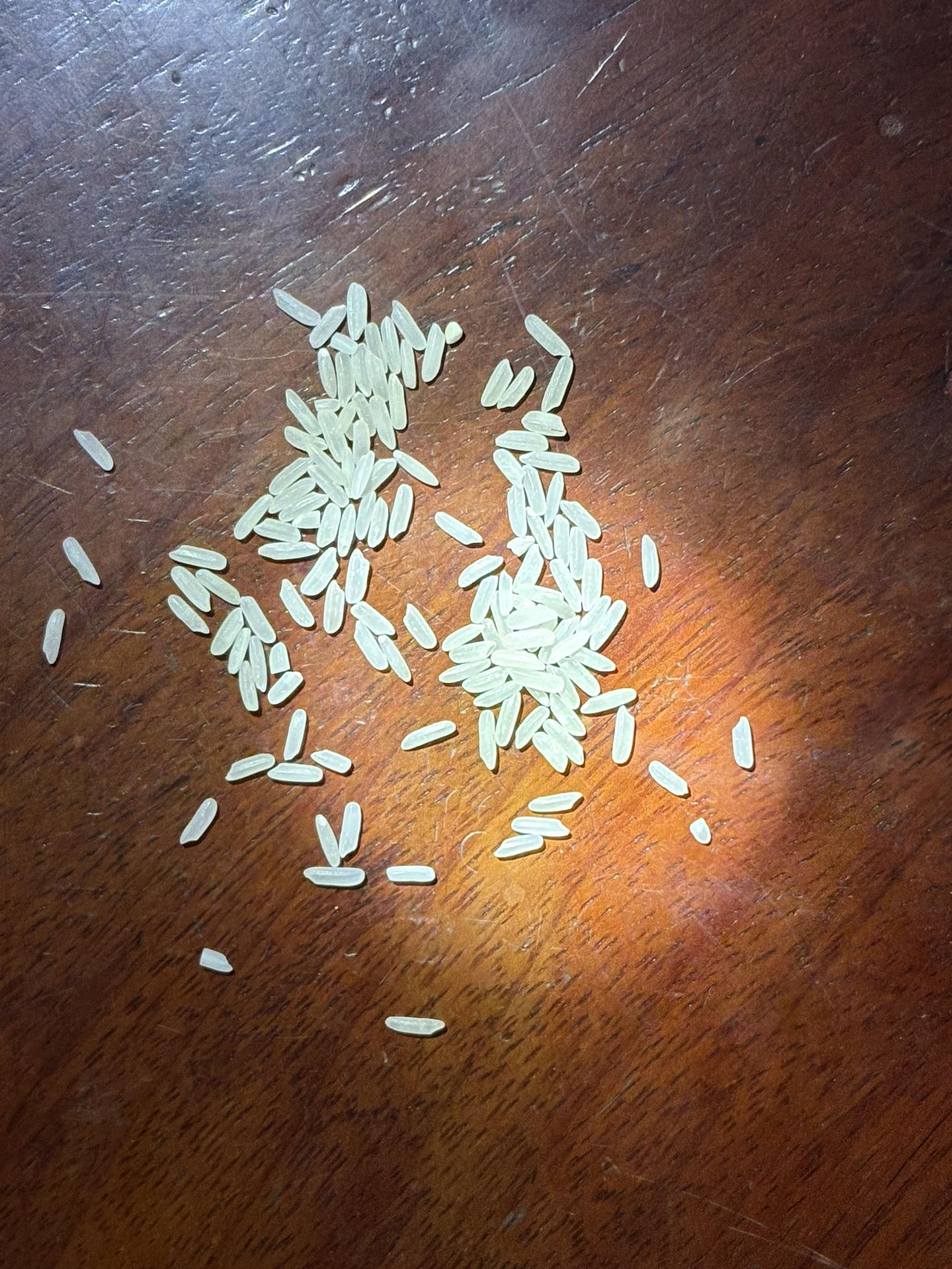Rice-th-y-nh: (170, 567, 212, 613), (524, 316, 570, 357), (589, 601, 627, 650), (301, 548, 339, 595), (63, 537, 100, 585), (390, 301, 426, 350), (308, 464, 349, 507), (234, 494, 272, 540), (240, 595, 276, 643), (544, 719, 584, 762), (273, 290, 320, 326), (560, 500, 602, 540), (180, 799, 218, 843), (285, 389, 320, 436), (209, 608, 244, 655), (74, 429, 114, 470), (269, 457, 312, 495), (558, 658, 601, 696), (550, 559, 582, 610), (394, 450, 439, 486), (434, 512, 483, 545), (167, 595, 208, 634), (279, 580, 313, 627), (270, 479, 317, 513), (497, 367, 535, 409), (457, 554, 503, 588), (353, 620, 384, 670), (196, 570, 241, 604), (319, 411, 349, 462), (480, 360, 513, 406), (309, 306, 346, 347), (368, 396, 396, 450), (514, 706, 549, 749), (549, 693, 584, 736), (401, 722, 456, 749), (582, 687, 637, 714), (544, 357, 572, 410), (532, 732, 568, 773), (387, 483, 414, 537), (360, 347, 388, 399), (276, 492, 326, 521), (404, 604, 436, 649), (351, 602, 393, 636), (380, 636, 411, 682), (513, 545, 544, 591), (512, 813, 569, 838), (495, 692, 521, 746), (344, 550, 370, 604), (303, 865, 366, 887), (315, 816, 341, 869), (548, 630, 591, 662), (170, 545, 227, 569), (307, 446, 343, 484), (649, 761, 688, 796), (576, 596, 611, 635), (364, 323, 391, 373), (422, 325, 446, 381), (491, 649, 544, 674), (612, 707, 635, 764), (530, 591, 575, 620), (476, 710, 498, 769), (523, 450, 581, 472), (226, 754, 275, 780), (439, 659, 492, 683), (339, 801, 362, 856), (267, 670, 303, 705), (731, 716, 755, 768), (247, 635, 269, 691), (284, 426, 328, 454), (522, 466, 547, 515), (518, 584, 565, 610), (505, 484, 528, 537), (323, 581, 346, 634), (43, 609, 65, 664), (226, 628, 252, 674), (470, 577, 496, 623), (350, 452, 376, 498), (566, 527, 589, 579), (387, 374, 408, 430), (284, 709, 307, 760), (509, 670, 562, 692), (553, 665, 580, 708), (258, 541, 316, 561), (364, 459, 397, 494), (347, 283, 368, 338), (508, 606, 556, 630), (366, 497, 389, 547), (494, 834, 544, 857), (528, 515, 554, 559), (474, 682, 518, 708), (316, 503, 342, 547), (572, 646, 615, 672), (351, 394, 377, 437), (442, 624, 483, 651), (255, 518, 301, 542), (464, 667, 508, 692), (384, 1017, 445, 1035), (581, 558, 602, 610), (544, 472, 565, 524), (496, 430, 548, 451), (355, 491, 377, 540), (336, 506, 357, 557), (503, 629, 554, 650), (381, 318, 401, 371), (334, 352, 355, 402), (529, 792, 581, 812), (640, 535, 660, 587), (350, 350, 372, 397), (269, 763, 323, 782), (493, 449, 522, 484), (449, 640, 494, 662), (490, 592, 512, 637), (238, 664, 259, 711), (351, 421, 371, 469), (318, 349, 337, 398), (552, 515, 572, 560), (312, 749, 351, 772), (553, 615, 581, 646), (524, 411, 565, 432), (386, 865, 435, 882), (400, 340, 417, 389), (200, 949, 232, 972), (268, 643, 291, 675), (523, 419, 566, 436), (498, 571, 515, 613), (341, 447, 356, 494), (482, 618, 504, 650), (337, 402, 357, 434), (331, 333, 358, 354), (292, 510, 321, 529), (690, 818, 711, 844), (508, 535, 535, 555), (525, 687, 550, 707), (512, 594, 536, 611), (444, 322, 462, 344), (315, 399, 340, 411)
